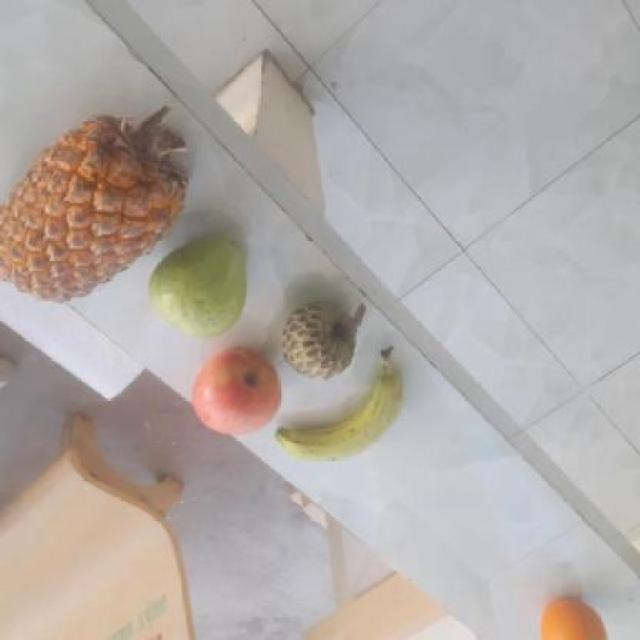apple: (189, 347, 283, 436)
banana: (267, 347, 405, 462)
guava: (144, 234, 247, 338)
pineapple: (0, 105, 191, 296)
sugar apple: (276, 298, 361, 381)
